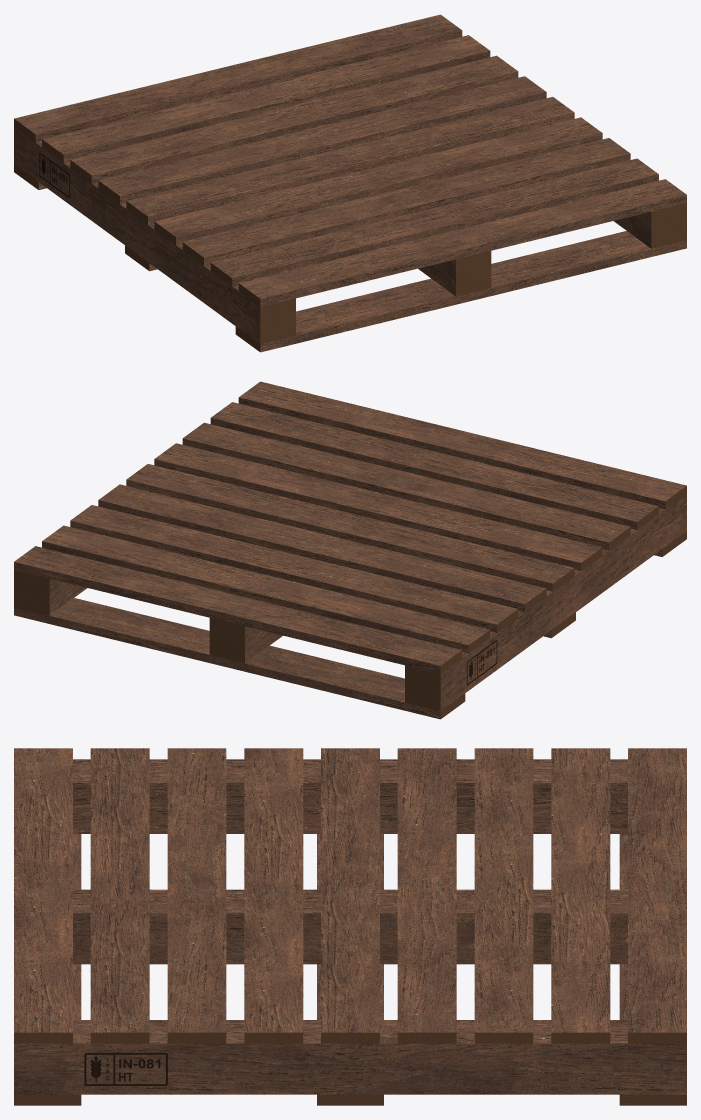
Rendered from hw03-hardwood-pallet-1200x1200-2-way.glb.
3 views of the same model, one above another, from view 1: azimuth 30°, elevation 25°; view 2: azimuth 150°, elevation 25°; view 3: azimuth 270°, elevation 25° (orthographic). The views are drawn at different scales.
Parts seen in each view (by area): view 1: hw03-hardwood-pallet-1200x1200-2-way; view 2: hw03-hardwood-pallet-1200x1200-2-way; view 3: hw03-hardwood-pallet-1200x1200-2-way.
Boxes of the visible parts, x1,y1,x2,y2 form: hw03-hardwood-pallet-1200x1200-2-way: (14, 14, 686, 352); hw03-hardwood-pallet-1200x1200-2-way: (14, 381, 686, 719); hw03-hardwood-pallet-1200x1200-2-way: (14, 748, 686, 1105).
Size of the model in its own units: 1.2 by 0.145 by 1.2.
Materials: 4 (3 with a texture image).
